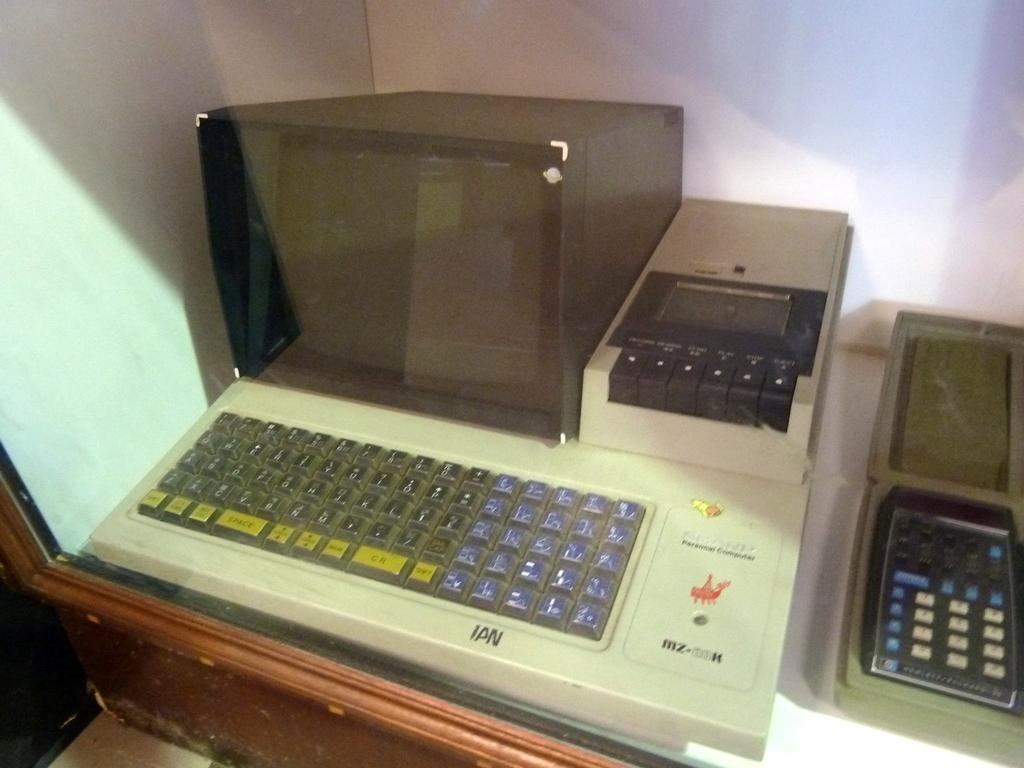Computer-keyboard: (136, 408, 645, 639)
